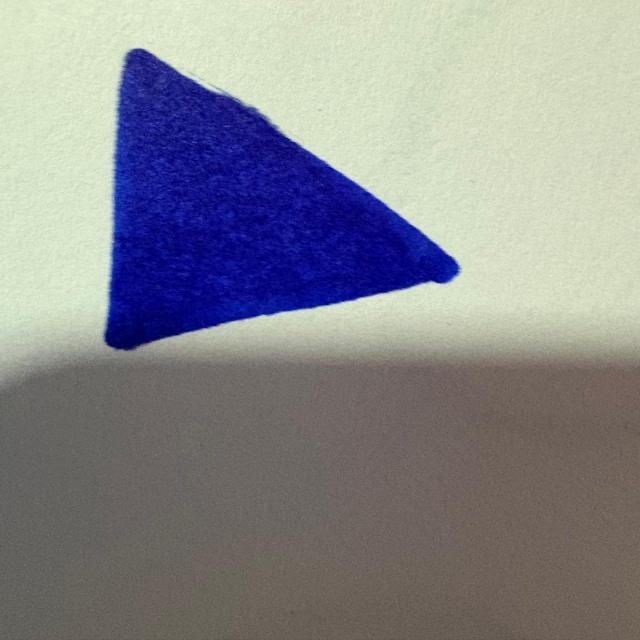Triangle: (84, 40, 490, 372)
